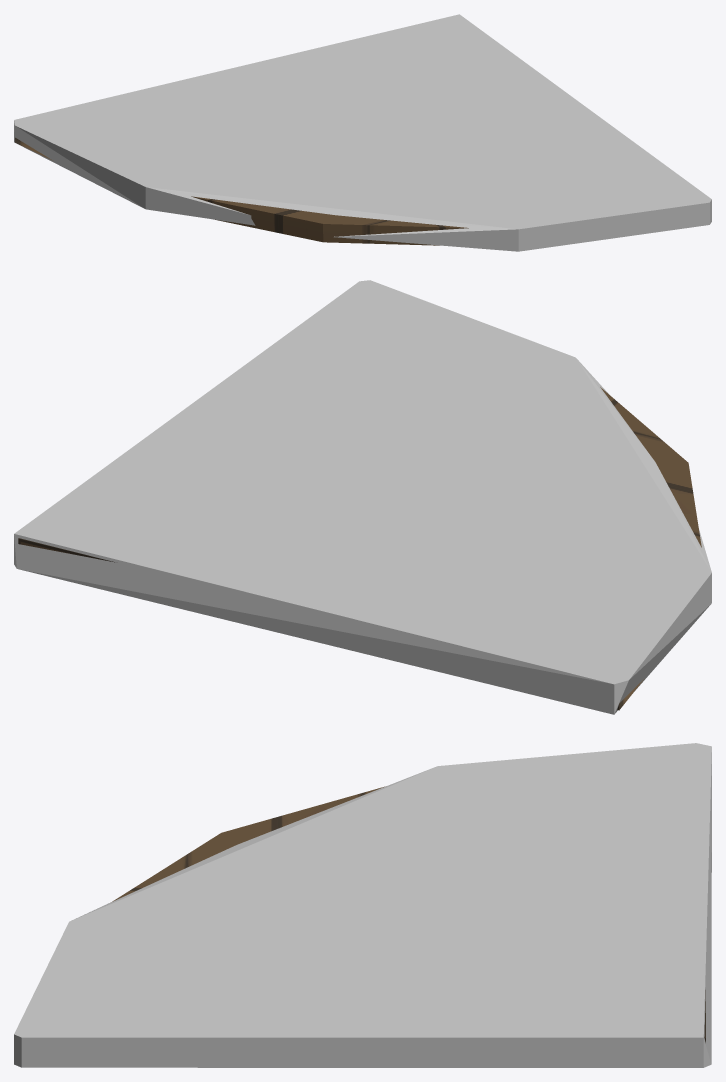
File: SM_Bld_Floor_Round_01.fbx
3 views of the same model, one above another, from view 1: azimuth 30°, elevation 25°; view 2: azimuth 150°, elevation 25°; view 3: azimuth 270°, elevation 25° (orthographic). The views are drawn at different scales.
Visible parts, largest first — view 1: SM_Bld_Floor_Round_01_ConvexHulls, SM_Bld_Floor_Round_01; view 2: SM_Bld_Floor_Round_01_ConvexHulls, SM_Bld_Floor_Round_01; view 3: SM_Bld_Floor_Round_01_ConvexHulls, SM_Bld_Floor_Round_01.
Part boxes in pixels (bbox=[...]): SM_Bld_Floor_Round_01_ConvexHulls: bbox=[14, 14, 711, 251]; SM_Bld_Floor_Round_01: bbox=[15, 137, 468, 245]; SM_Bld_Floor_Round_01_ConvexHulls: bbox=[14, 280, 711, 714]; SM_Bld_Floor_Round_01: bbox=[18, 387, 701, 710]; SM_Bld_Floor_Round_01_ConvexHulls: bbox=[14, 743, 711, 1067]; SM_Bld_Floor_Round_01: bbox=[112, 786, 705, 1042].
Bounding box in the file's own units: 254 × 254 × 12.13.
Materials: 2 (1 with a texture image).
